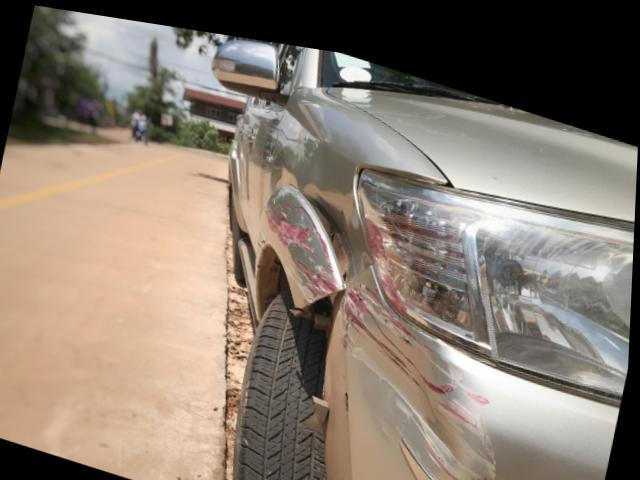dent: (348, 296, 461, 459), (309, 186, 373, 271)
dislocated part: (298, 292, 355, 480)
scratch: (265, 179, 349, 294), (438, 344, 502, 476), (341, 270, 393, 319)
